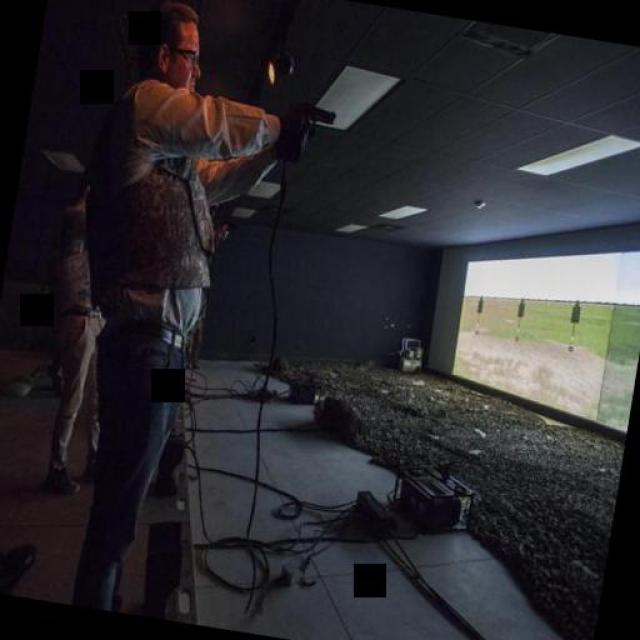gun: (284, 94, 340, 136)
